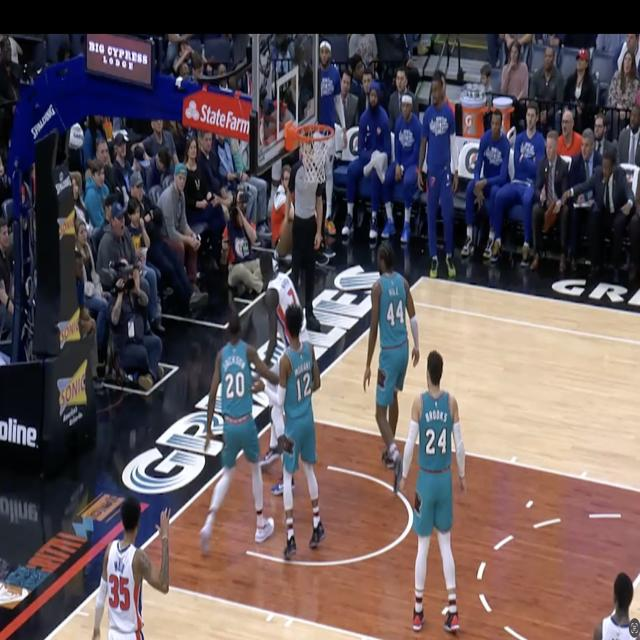no foul: (208, 300, 277, 556), (266, 302, 319, 570)
